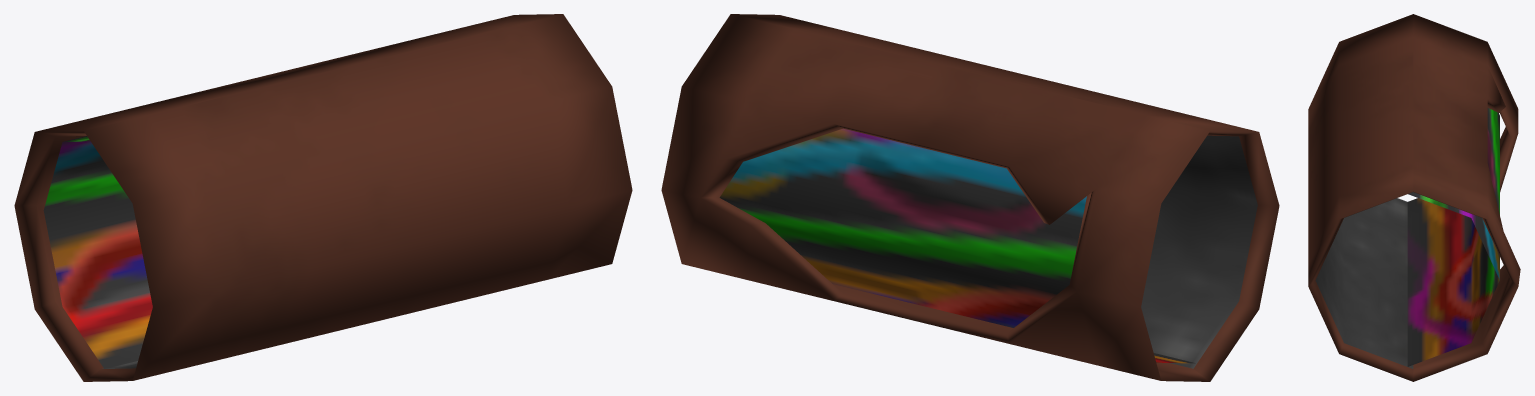
Rendered from BrokenPipe.fbx.
The picture shows the model from 3 angles, left to right: view 1: azimuth 30°, elevation 25°; view 2: azimuth 150°, elevation 25°; view 3: azimuth 270°, elevation 25°; orthographic projection. The views are drawn at different scales.
Visible parts, largest first — view 1: BrokenPipe; view 2: BrokenPipe; view 3: BrokenPipe.
Part boxes in pixels (x1,y1,x2,y2): BrokenPipe: [14, 14, 632, 381]; BrokenPipe: [661, 14, 1279, 381]; BrokenPipe: [1308, 14, 1520, 381].
Size of the model in its own units: 4 by 2 by 2.02.
